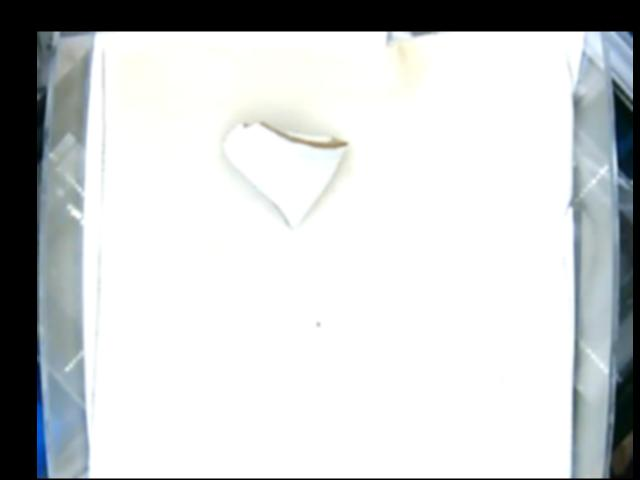China: (226, 119, 349, 227)
